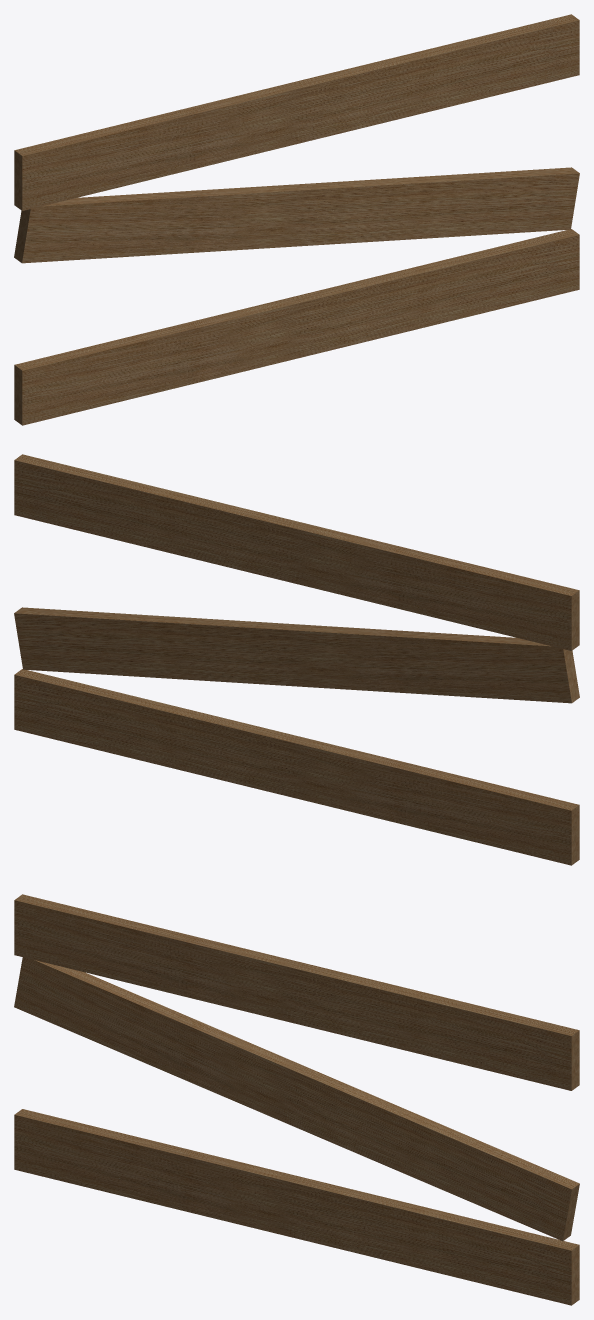
File: Wooden Planks.fbx
3 renders of one model, top to bottom at view 1: azimuth 30°, elevation 25°; view 2: azimuth 150°, elevation 25°; view 3: azimuth 330°, elevation 25°, orthographic.
Parts seen in each view (by area): view 1: Wooden plank 3, Wooden plank 1, Wooden plank 2; view 2: Wooden plank 3, Wooden plank 1, Wooden plank 2; view 3: Wooden plank 2, Wooden plank 1, Wooden plank 3.
Boxes of the visible parts, bbox=[...] form: Wooden plank 3: bbox=[14, 14, 579, 210]; Wooden plank 1: bbox=[14, 229, 579, 425]; Wooden plank 2: bbox=[14, 167, 579, 263]; Wooden plank 3: bbox=[14, 454, 579, 650]; Wooden plank 1: bbox=[14, 669, 579, 865]; Wooden plank 2: bbox=[14, 607, 579, 703]; Wooden plank 2: bbox=[14, 957, 579, 1241]; Wooden plank 1: bbox=[14, 1109, 579, 1305]; Wooden plank 3: bbox=[14, 894, 579, 1090].
Size of the model in its own units: 387 by 179 by 9.65.
